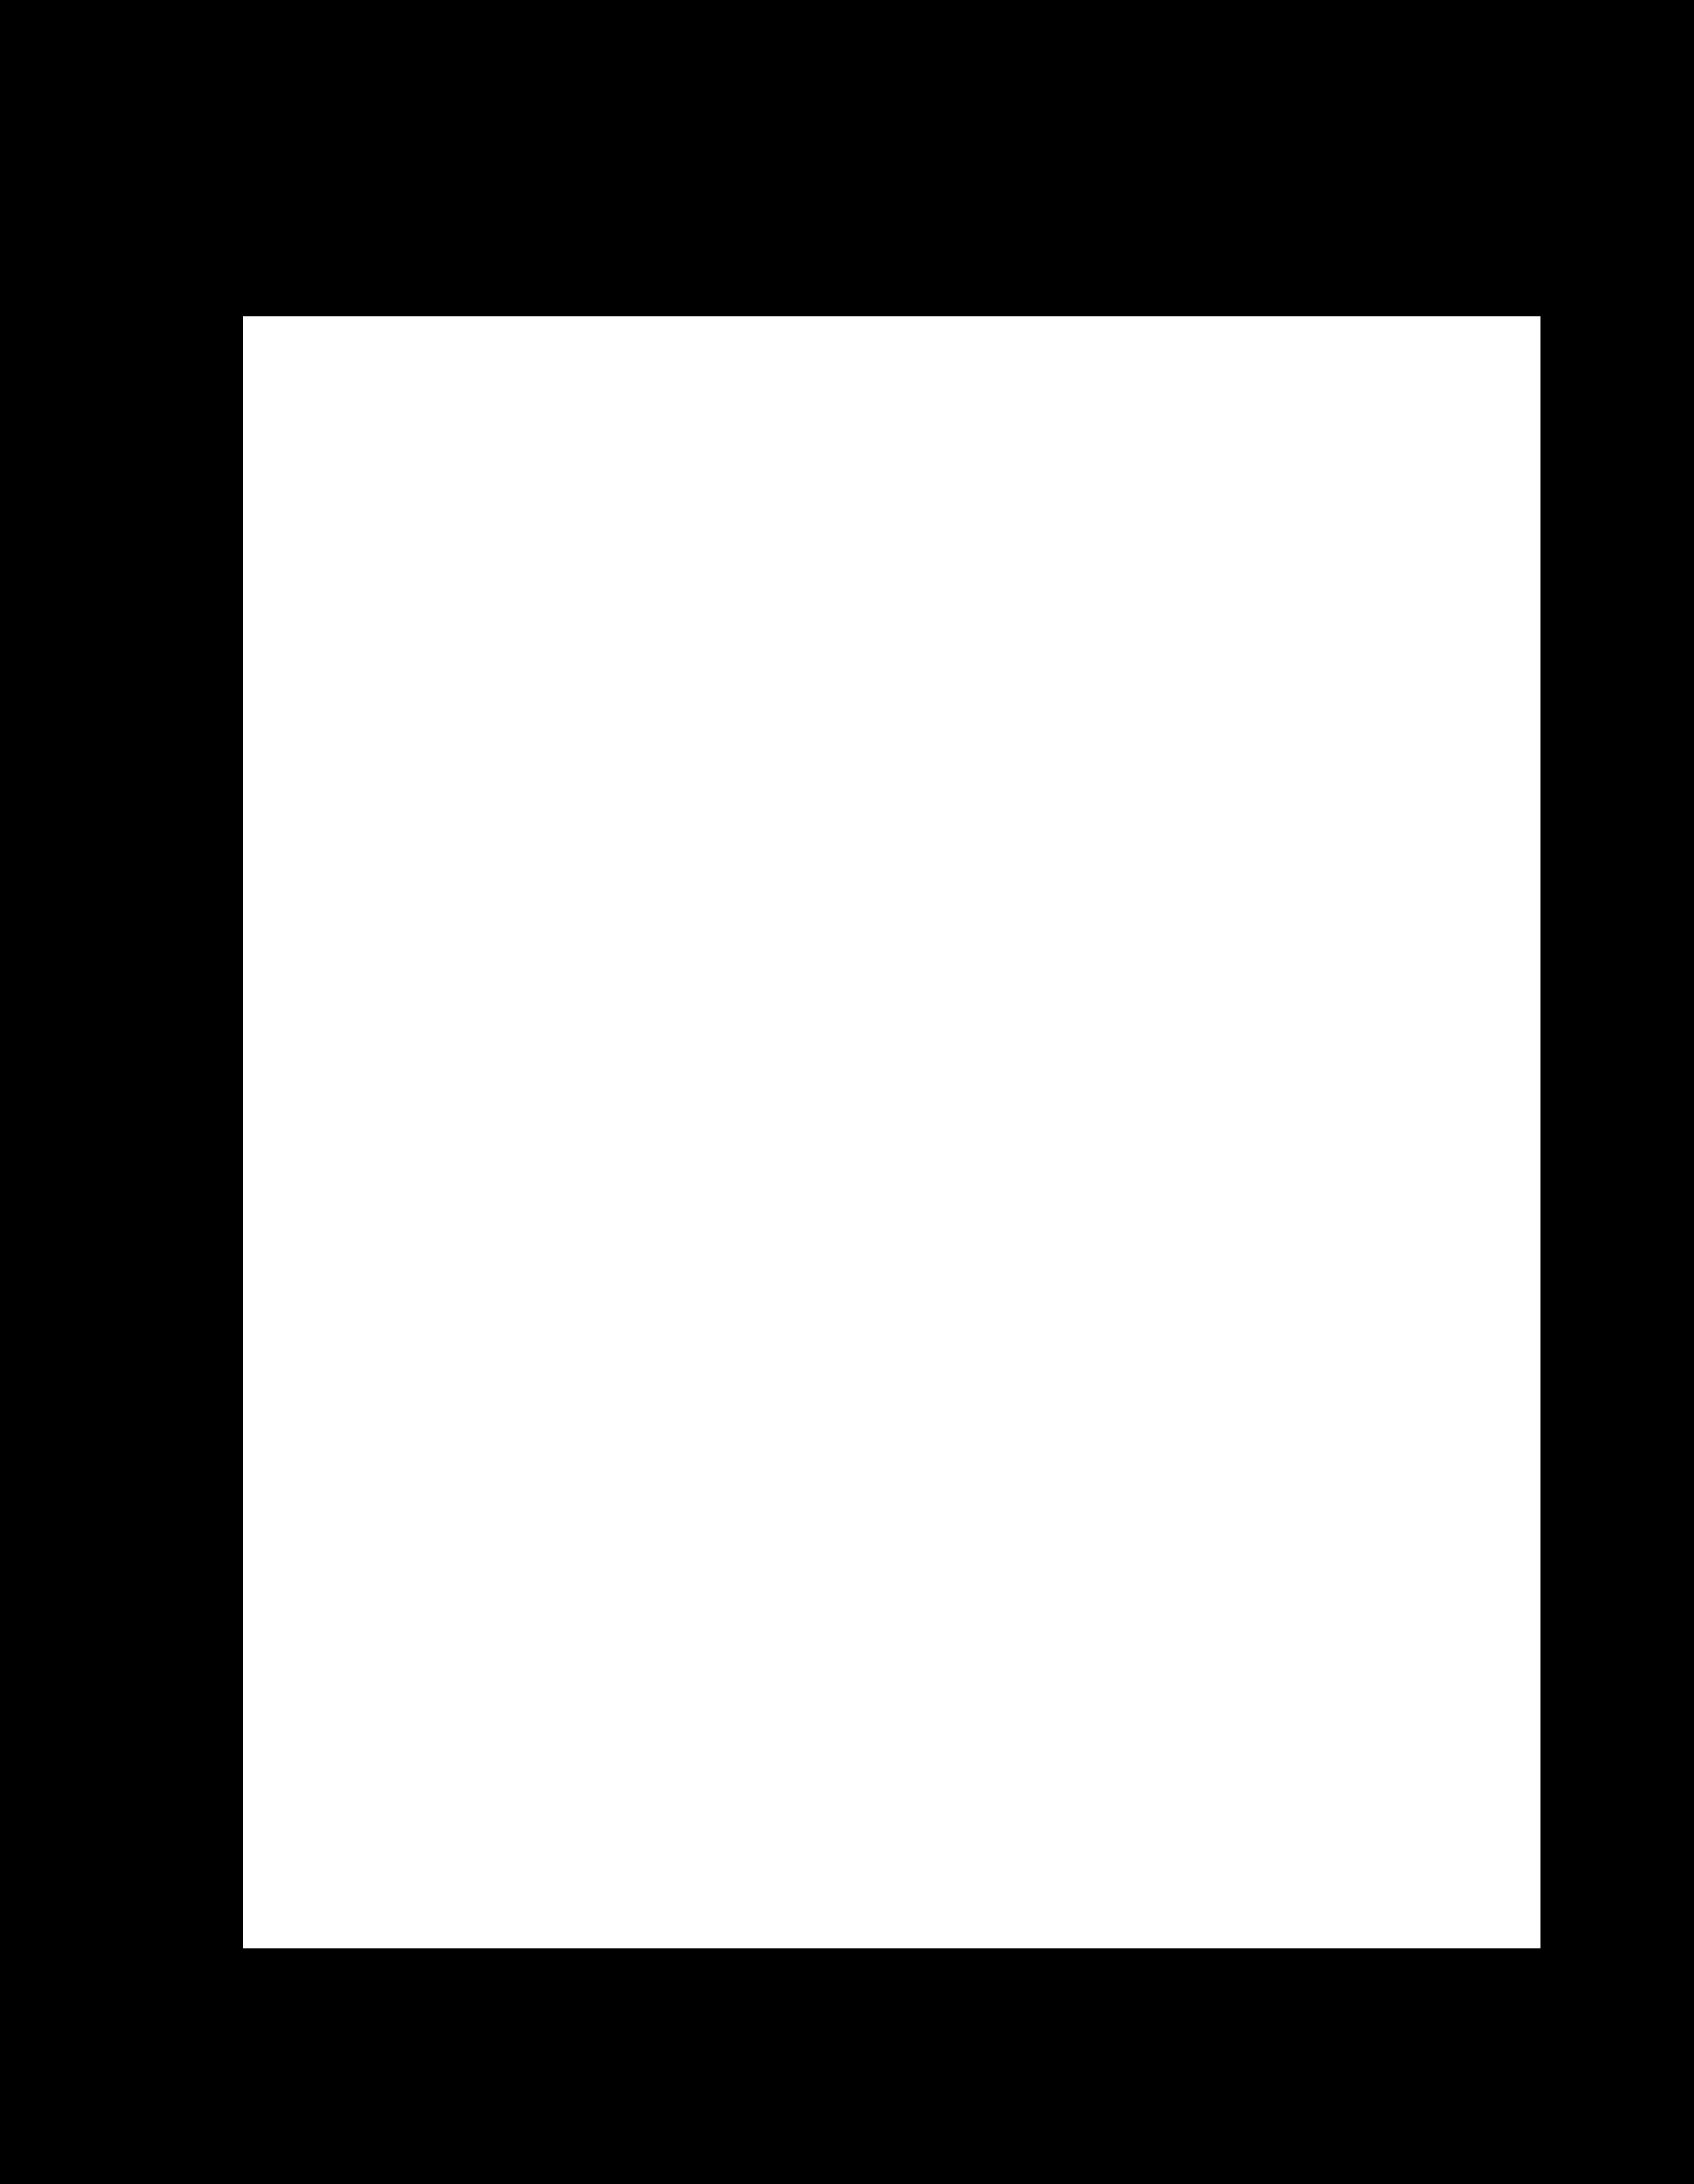table: (243, 316, 1540, 1948)
